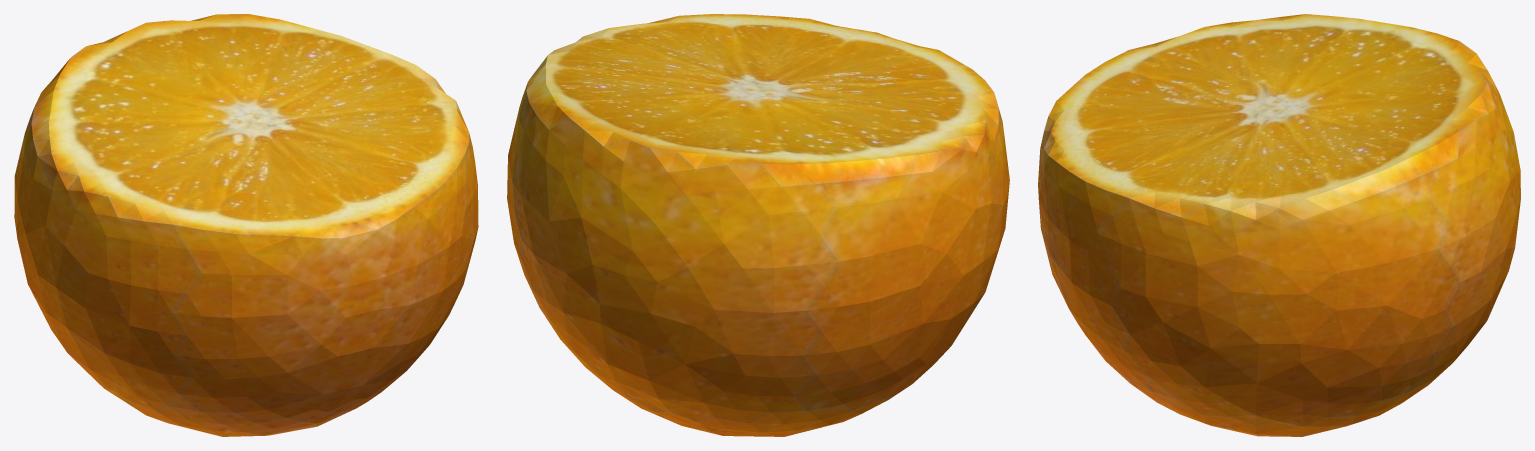
Rendered from orange_fruitc.glb.
The picture shows the model from 3 angles, left to right: view 1: azimuth 30°, elevation 25°; view 2: azimuth 150°, elevation 25°; view 3: azimuth 270°, elevation 25°; orthographic projection. The views are drawn at different scales.
Visible parts, largest first — view 1: 9e74b85e-ca39-4721-9e3e-c3501d6d16fe; view 2: 9e74b85e-ca39-4721-9e3e-c3501d6d16fe; view 3: 9e74b85e-ca39-4721-9e3e-c3501d6d16fe.
Boxes of the visible parts, x1=… form: 9e74b85e-ca39-4721-9e3e-c3501d6d16fe: x1=14, y1=14, x2=478, y2=436; 9e74b85e-ca39-4721-9e3e-c3501d6d16fe: x1=507, y1=14, x2=1009, y2=436; 9e74b85e-ca39-4721-9e3e-c3501d6d16fe: x1=1038, y1=14, x2=1520, y2=436.
Bounding box in the file's own units: 0.0659 × 0.05 × 0.0659.
1 material, 1 textured.
